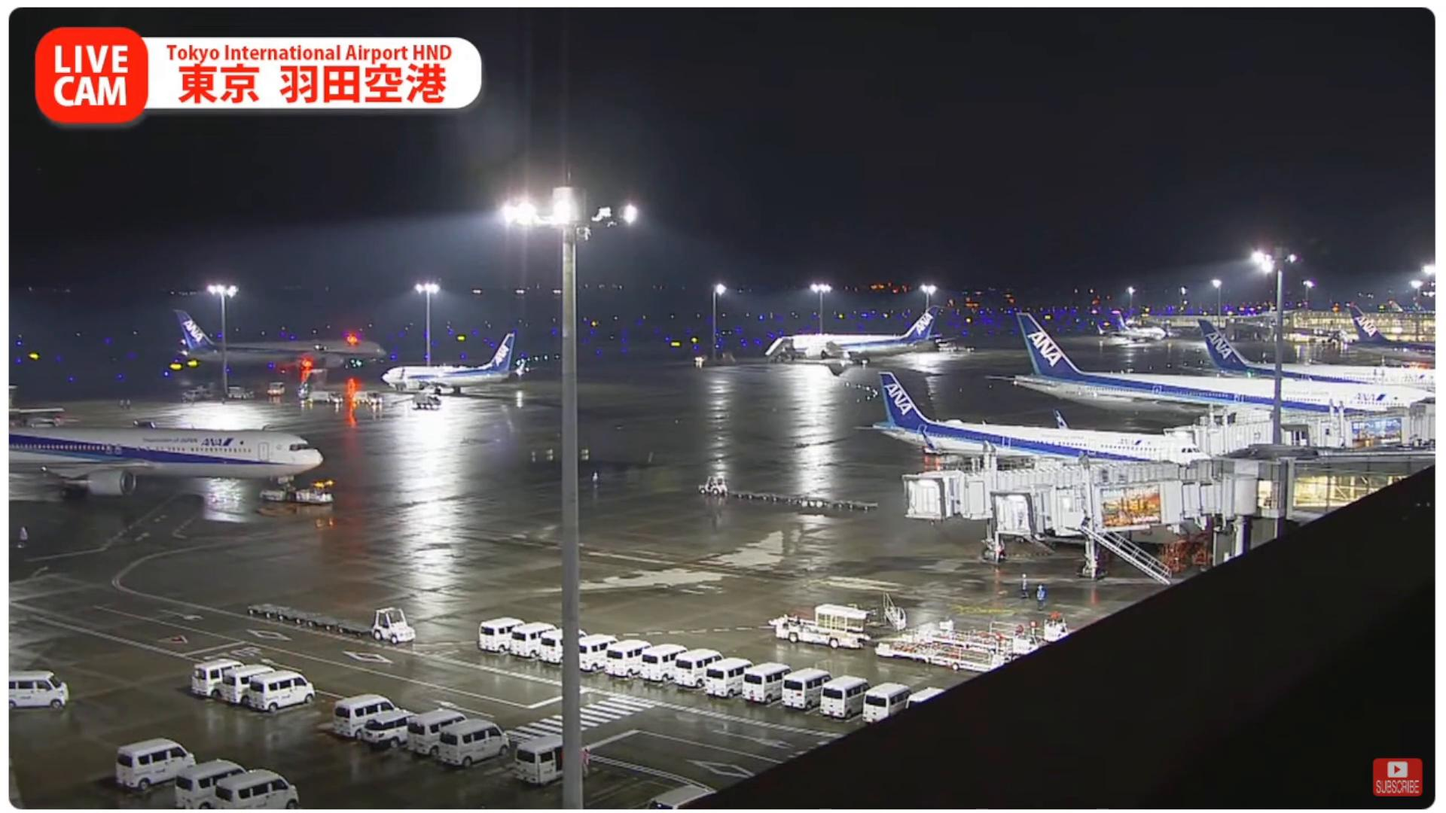Aerobridge: (894, 463, 1223, 527), (992, 475, 1249, 541)
Airplane: (12, 417, 329, 494)
Dolly: (245, 595, 373, 641)
JCPL: (863, 638, 1018, 673), (895, 625, 1050, 656)
Skyloader: (758, 598, 872, 653)
Tow Tug: (254, 481, 342, 510)
Tractor: (369, 607, 423, 645)
Window: (1293, 468, 1419, 517)
